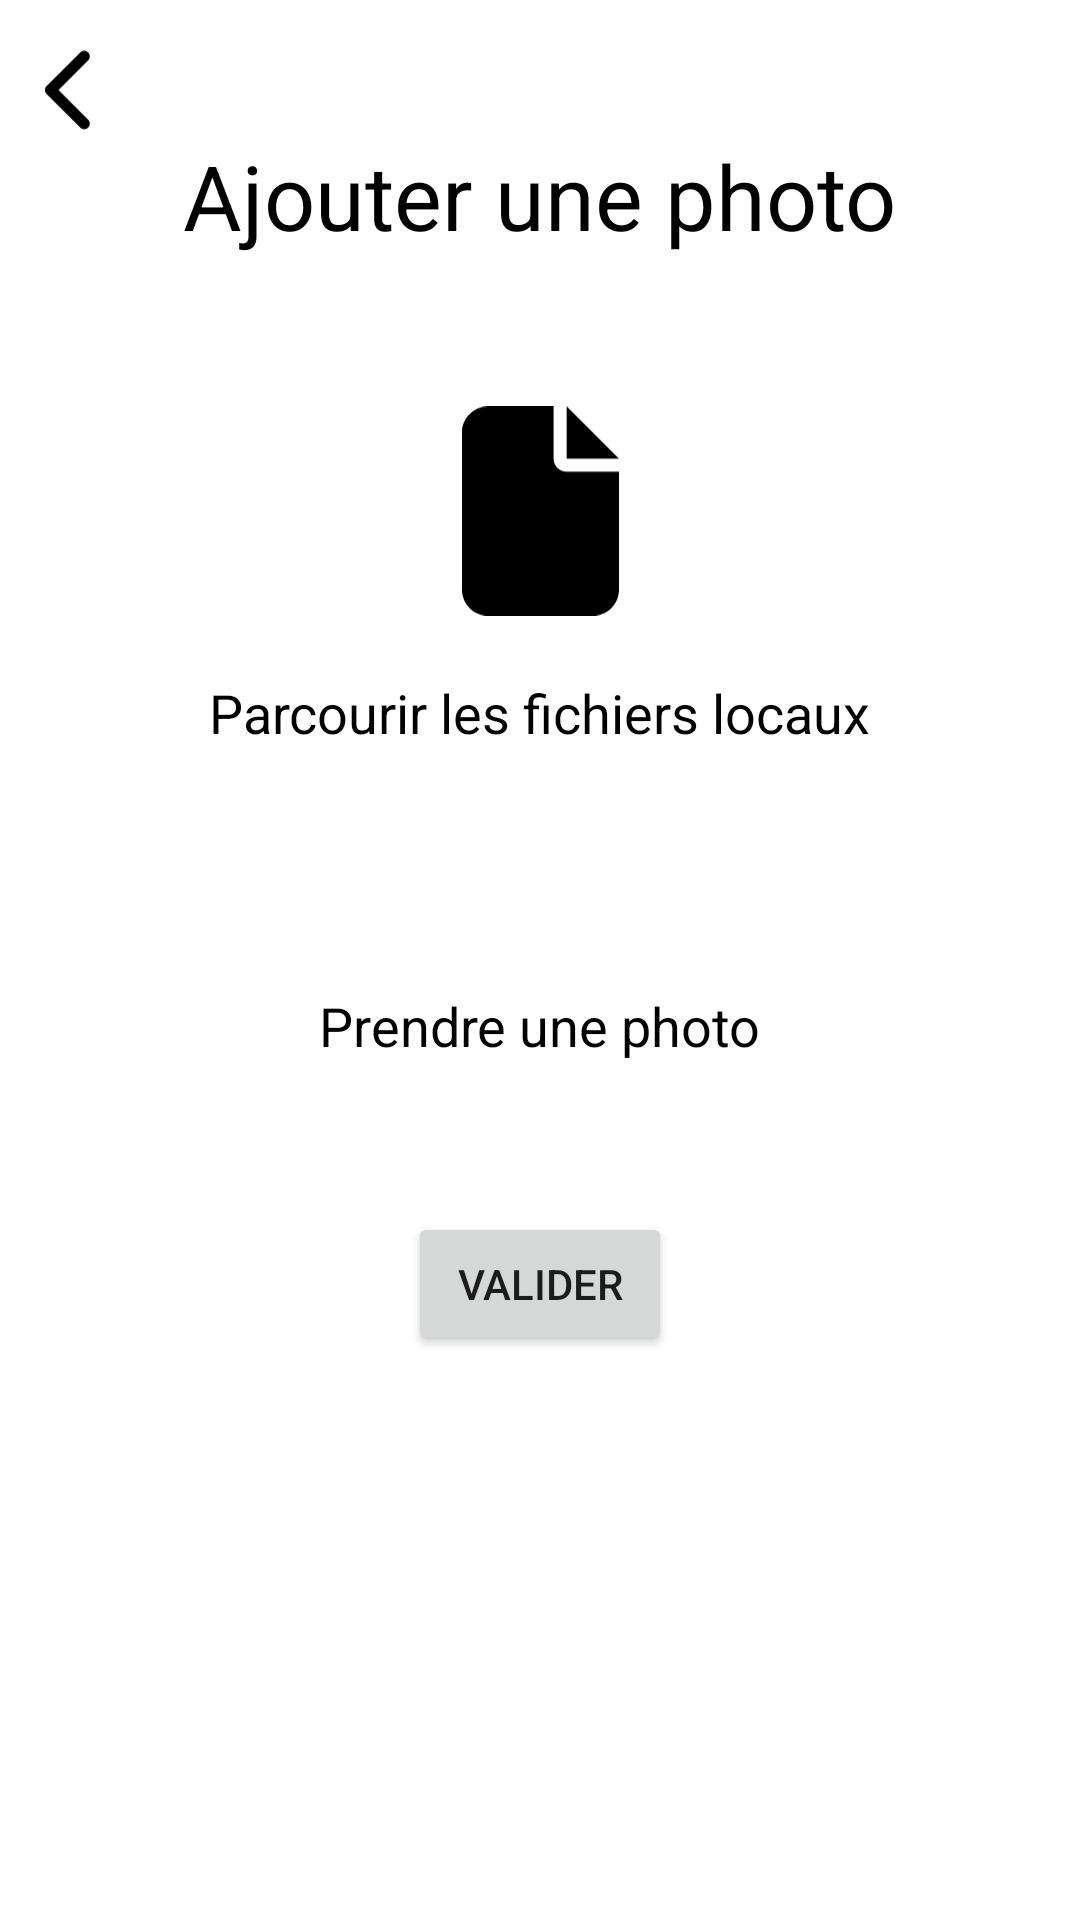

Screen size 1080px×1920px. Icon name, then its center in pixels as (x=x, y=y):
back: (x=67, y=90)
file: (x=540, y=511)
